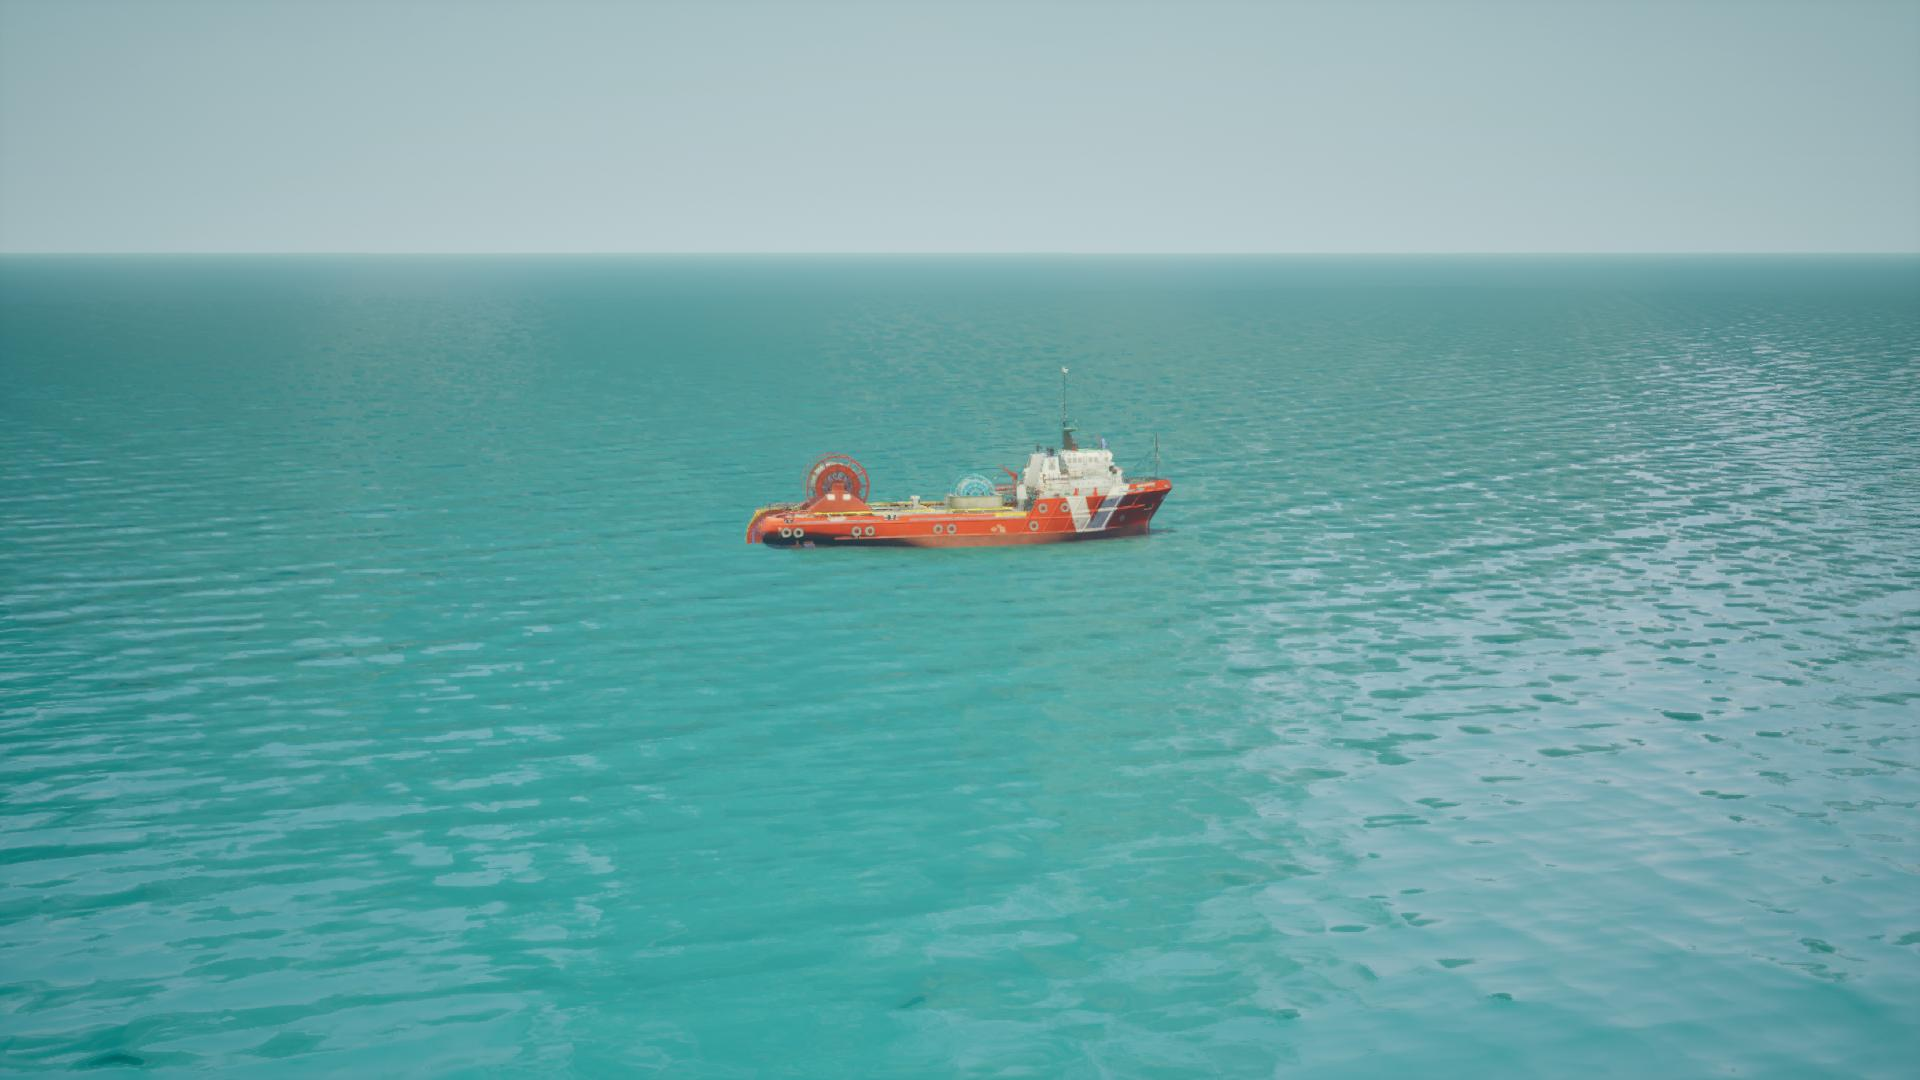Tug Boat: (750, 431, 1168, 556)
